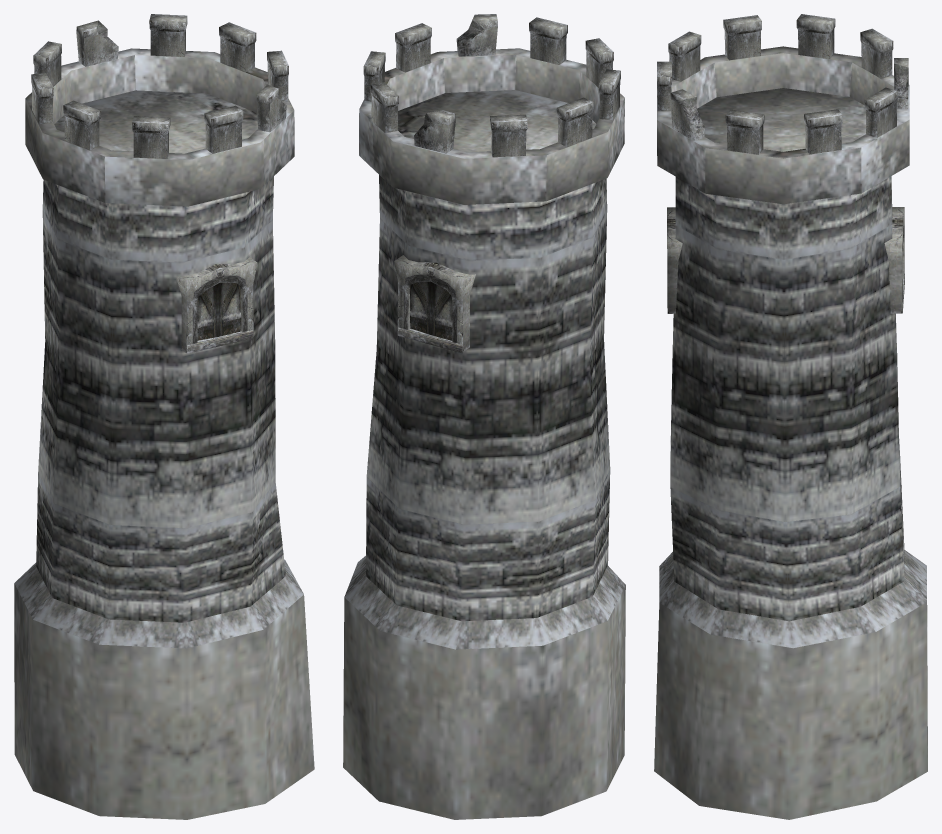
The model's file is S_Build_Snowland032.FBX.
The picture shows the model from 3 angles, left to right: view 1: azimuth 30°, elevation 25°; view 2: azimuth 150°, elevation 25°; view 3: azimuth 270°, elevation 25°; orthographic projection.
Parts seen in each view (by area): view 1: S_Build_Snowland032; view 2: S_Build_Snowland032; view 3: S_Build_Snowland032.
Boxes of the visible parts, x1,y1,x2,y2 form: S_Build_Snowland032: (14,14,314,819); S_Build_Snowland032: (343,14,625,819); S_Build_Snowland032: (654,14,927,819).
Size of the model in its own units: 341 by 313 by 865.
